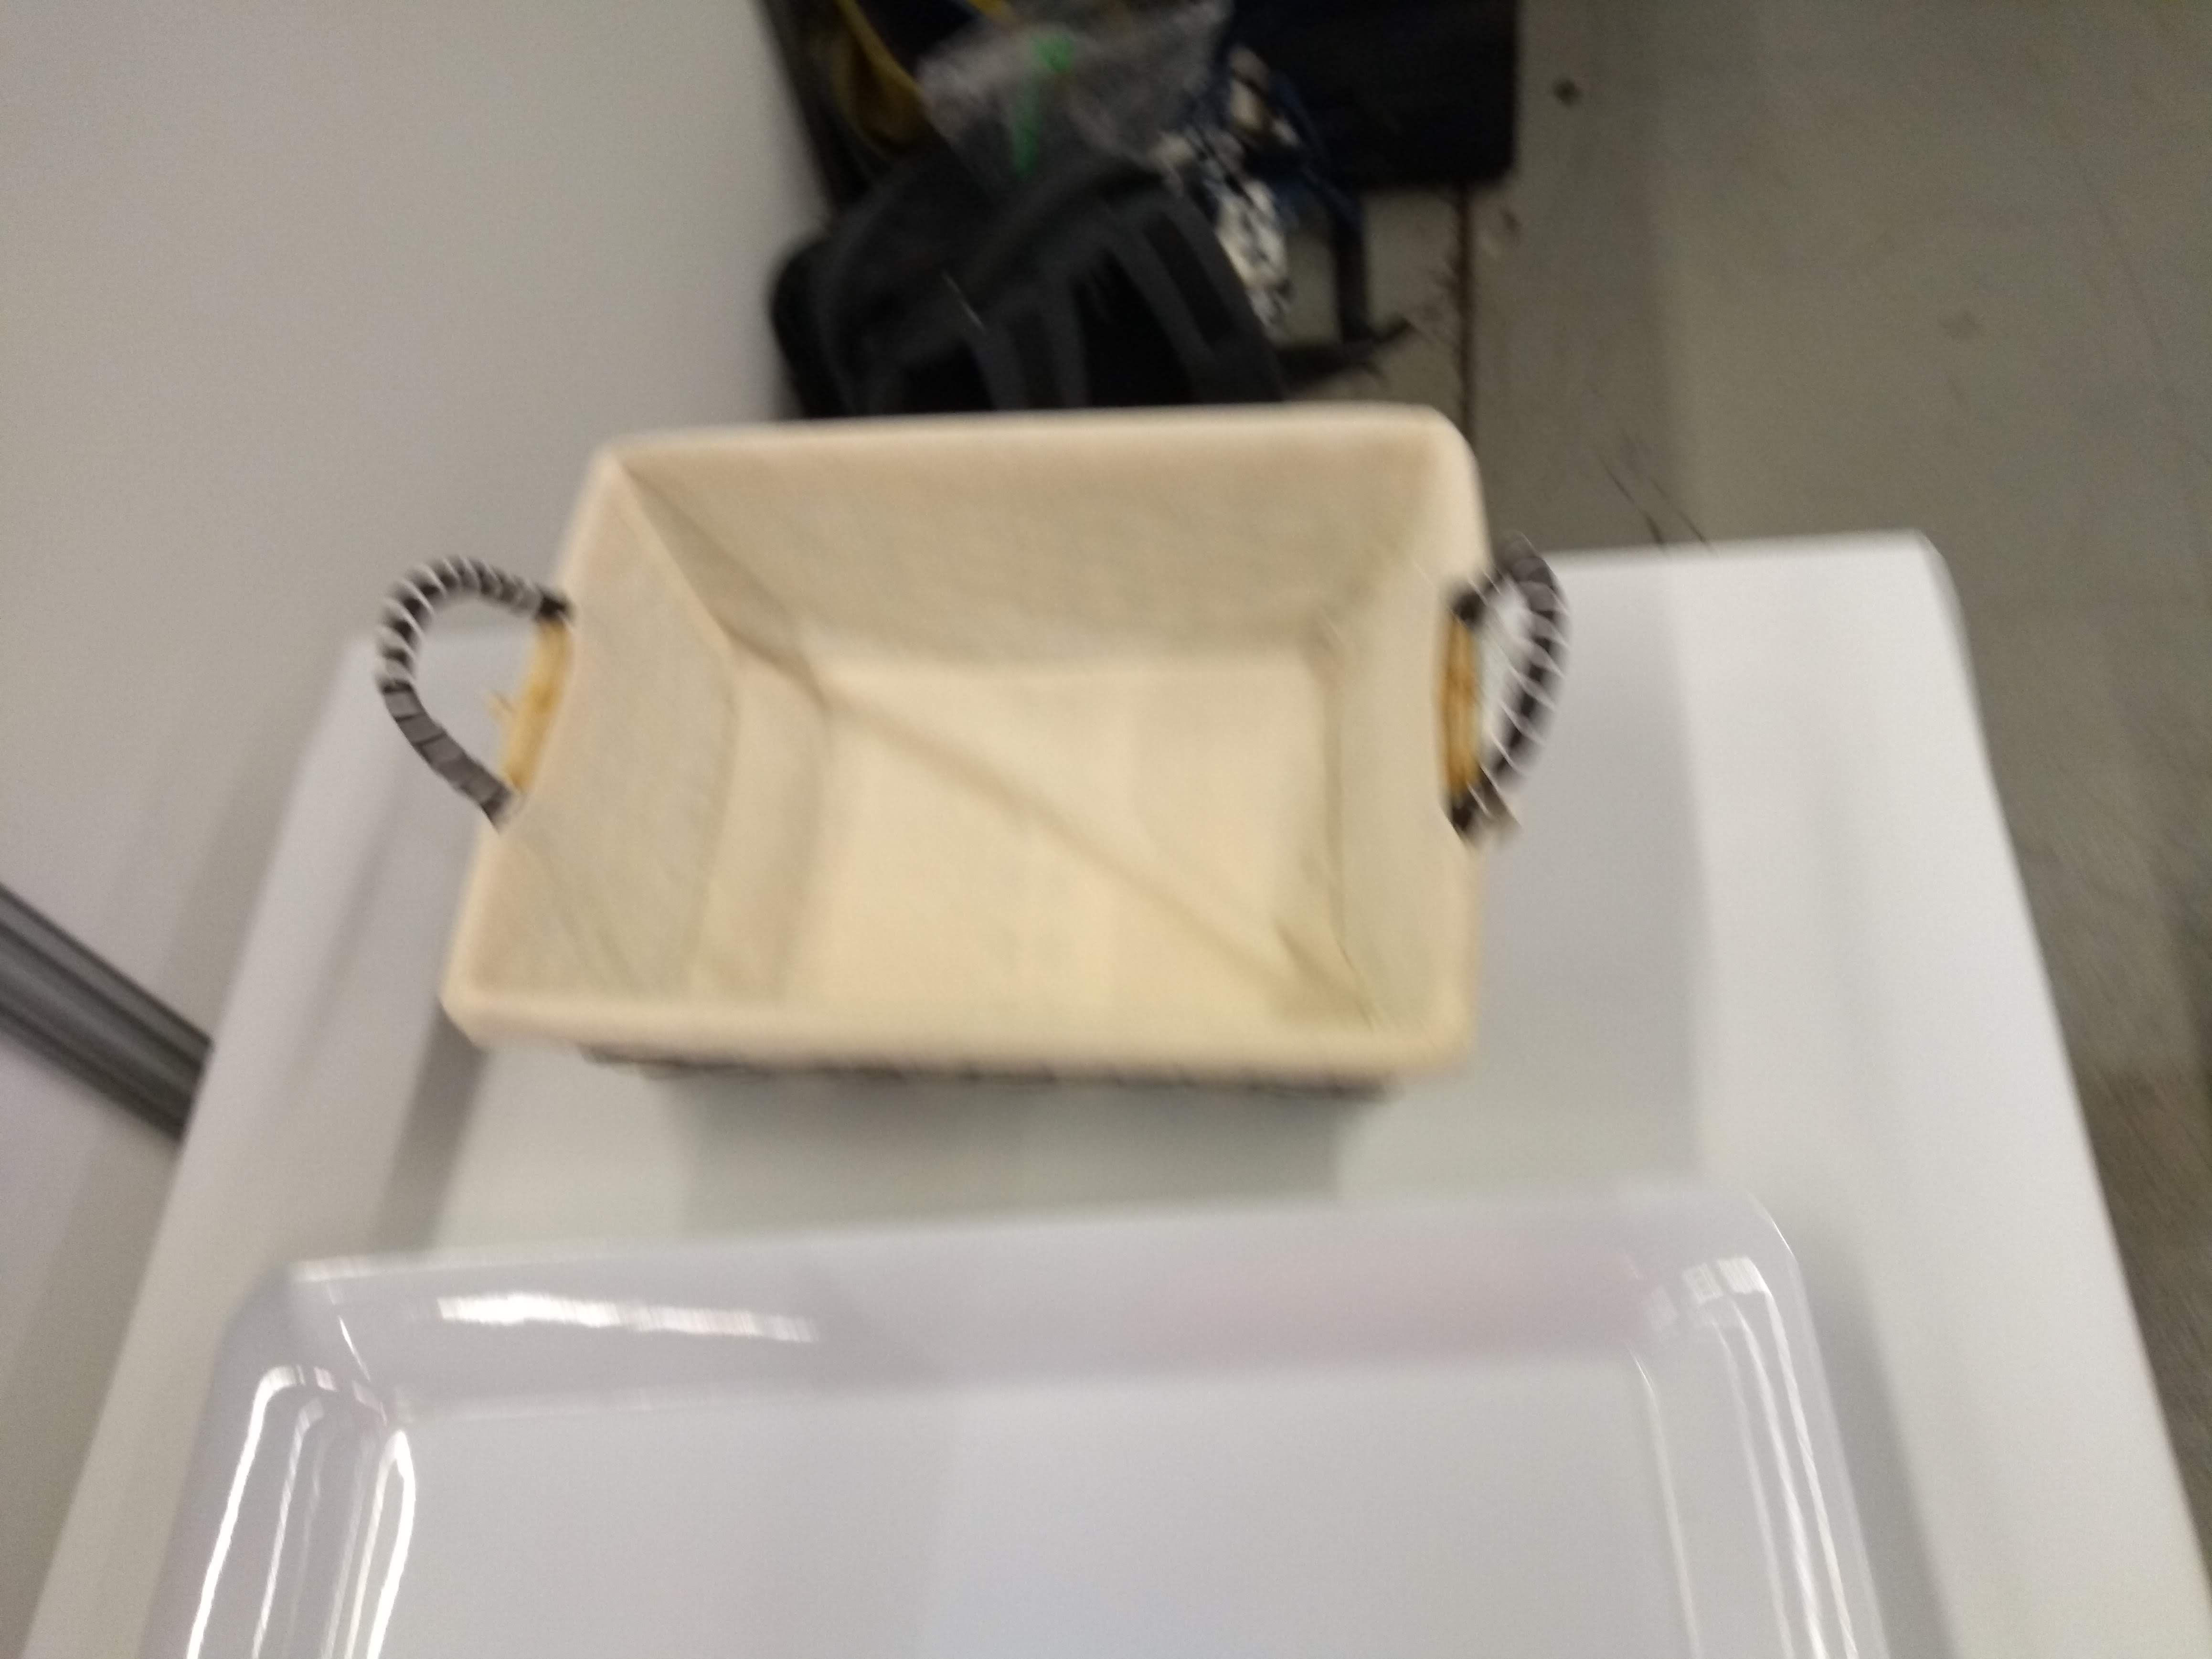basket: (369, 410, 1578, 1101)
tray: (127, 1169, 1898, 1659)
